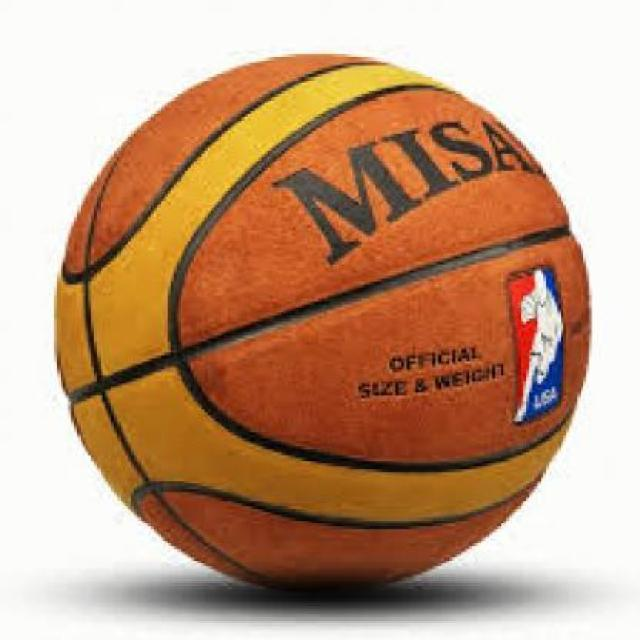basketball: (58, 53, 590, 584)
